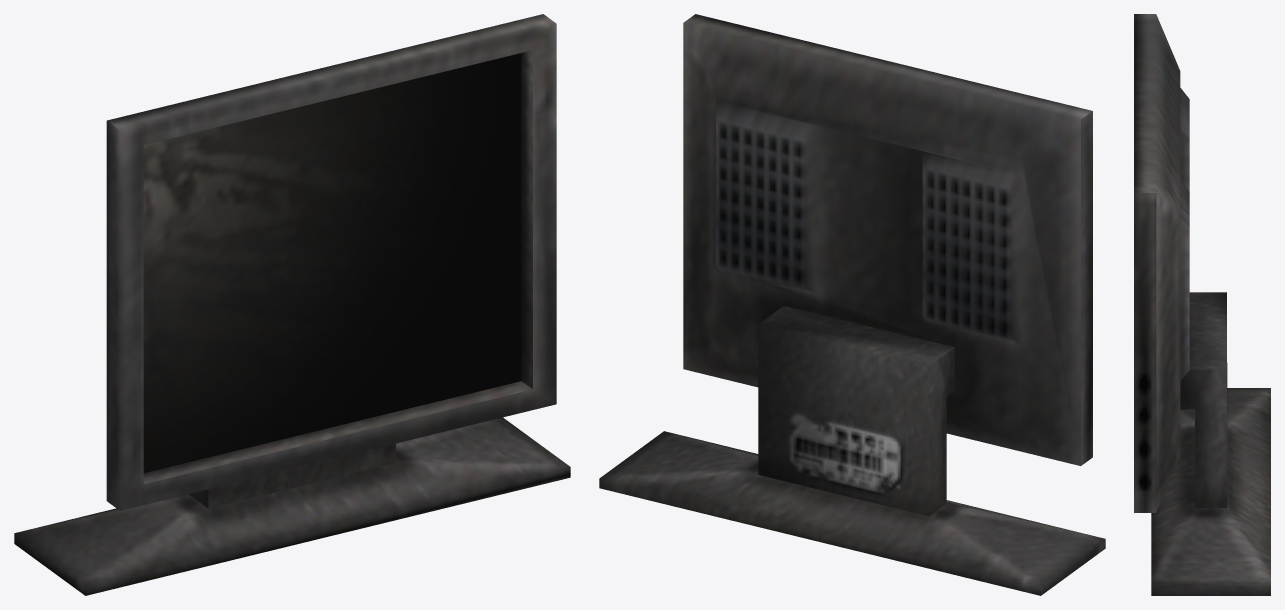
File: monitor.glb
3 views of the same model, side by side, from view 1: azimuth 30°, elevation 25°; view 2: azimuth 150°, elevation 25°; view 3: azimuth 270°, elevation 25° (orthographic). The views are drawn at different scales.
Visible parts, largest first — view 1: default; view 2: default; view 3: default.
Part boxes in pixels (x1,y1,x2,y2): default: (14,14,570,595); default: (599,14,1105,595); default: (1134,14,1270,595).
Bounding box in the file's own units: 42.79 × 39.4 × 12.44.
1 material, 1 textured.
